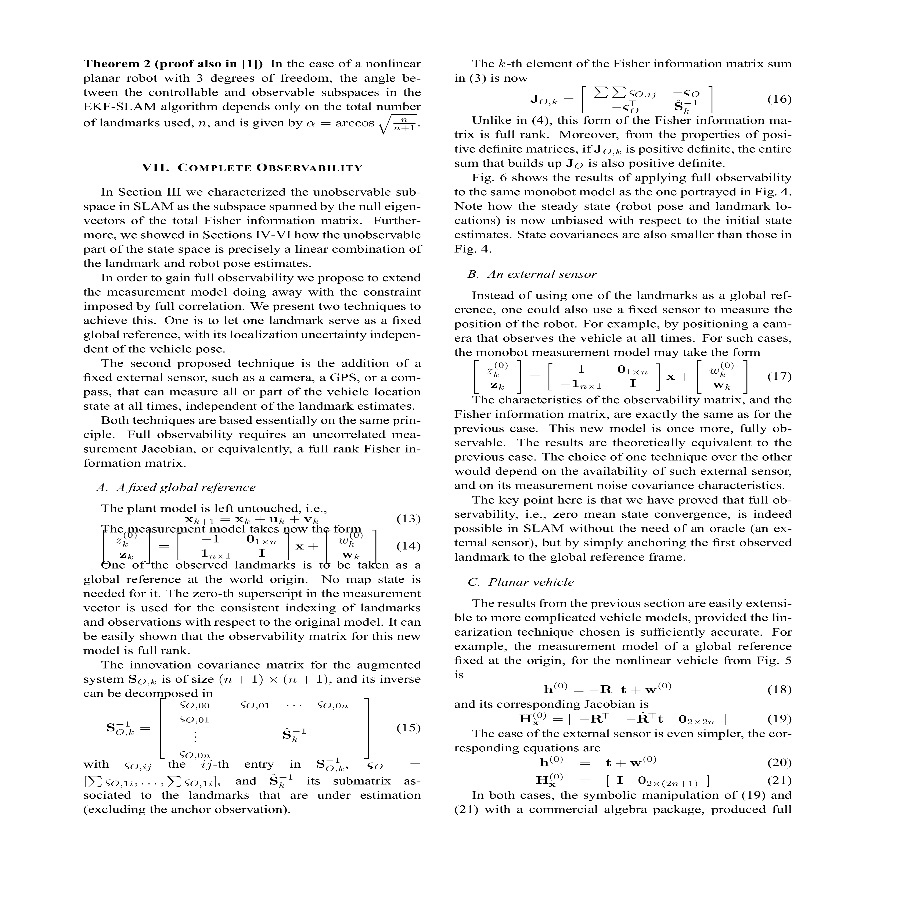eq: (105, 697, 382, 761), (472, 357, 753, 393), (101, 530, 381, 562), (537, 755, 714, 789), (529, 83, 714, 114), (518, 710, 731, 728), (541, 679, 674, 697), (182, 514, 326, 524)
